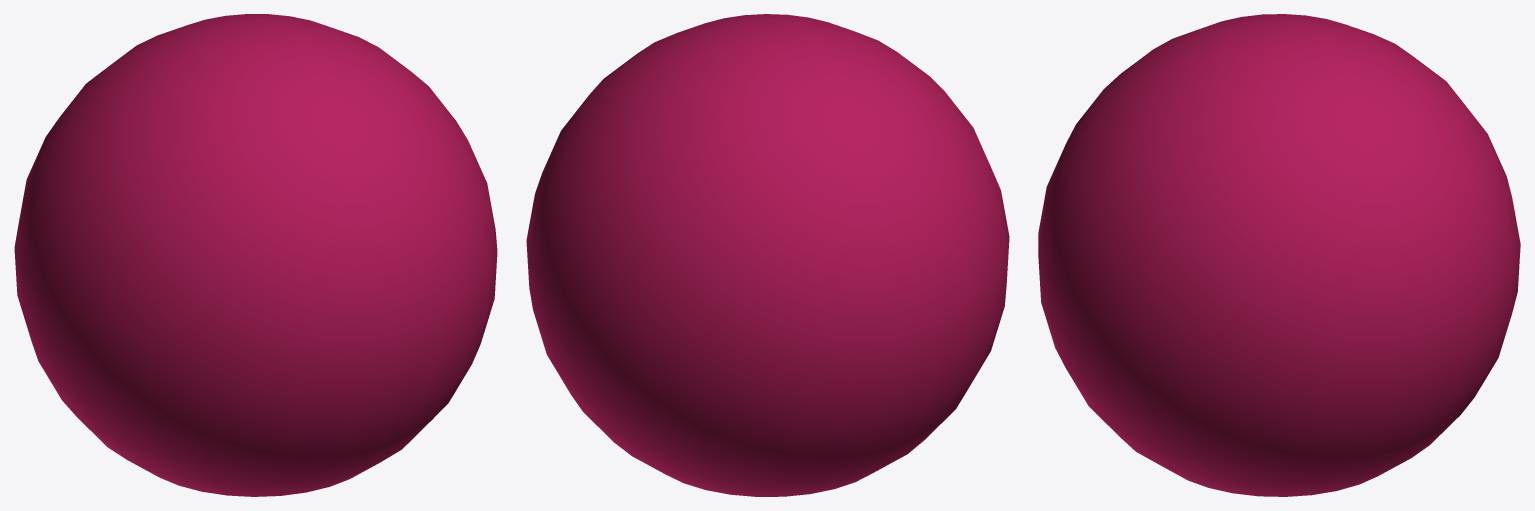
File: ball.dae
The picture shows the model from 3 angles, left to right: view 1: azimuth 30°, elevation 25°; view 2: azimuth 150°, elevation 25°; view 3: azimuth 270°, elevation 25°; orthographic projection.
Parts seen in each view (by area): view 1: Sphere001; view 2: Sphere001; view 3: Sphere001.
Part boxes in pixels (x1,y1,x2,y2): Sphere001: (14,14,497,496); Sphere001: (526,14,1009,496); Sphere001: (1038,14,1520,496).
Bounding box in the file's own units: 22.65 × 22.62 × 22.72.
